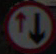Two way: (9, 6, 49, 44)
